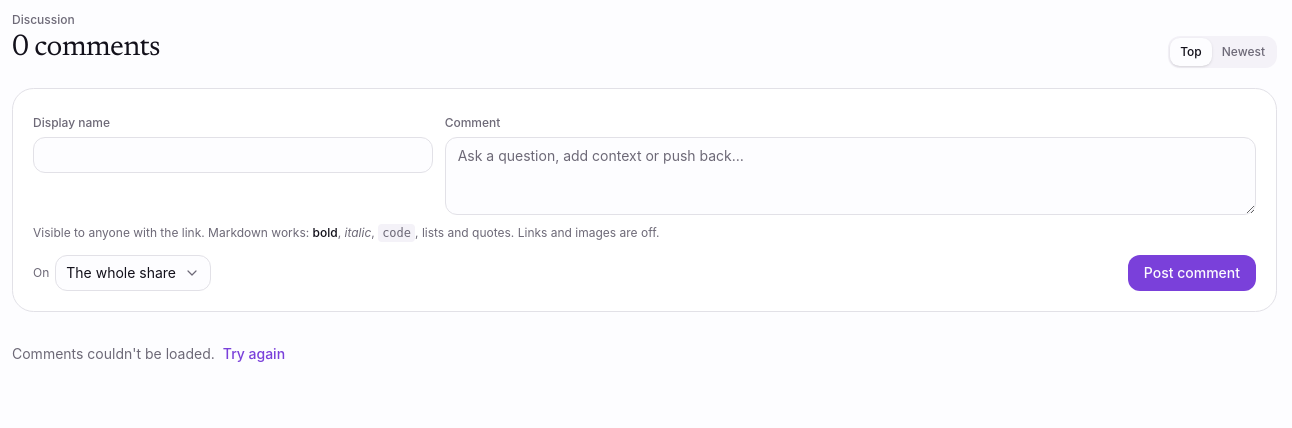
Test: loading › shows an error with retry when the list fails, then loads on retry
The image size is (1292, 428).
Click the button "Try again" at coordinates (254, 354), box top-left (223, 344), bottom-right (285, 364)
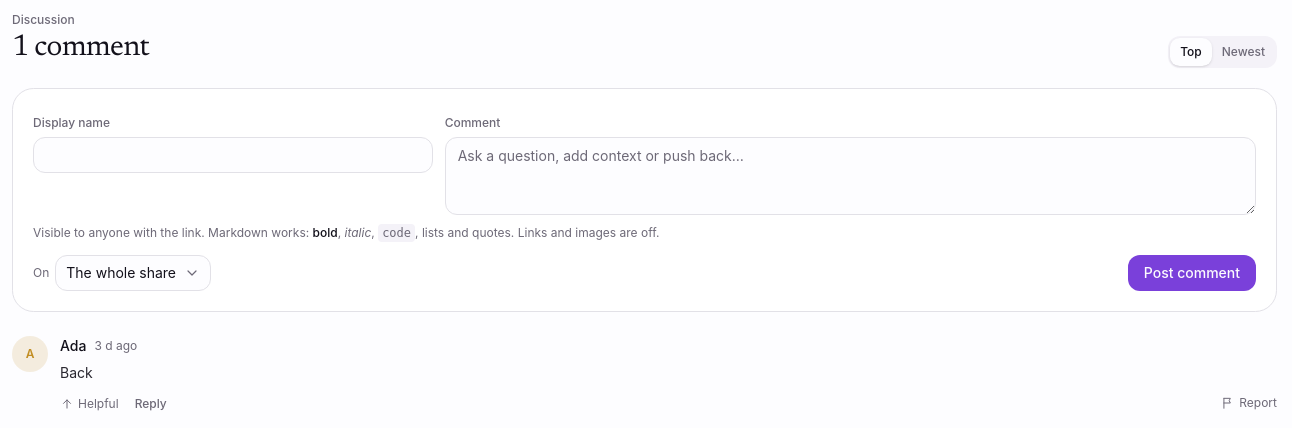
expect the text "Back" is shown: met, box top-left (60, 364), bottom-right (93, 381)
